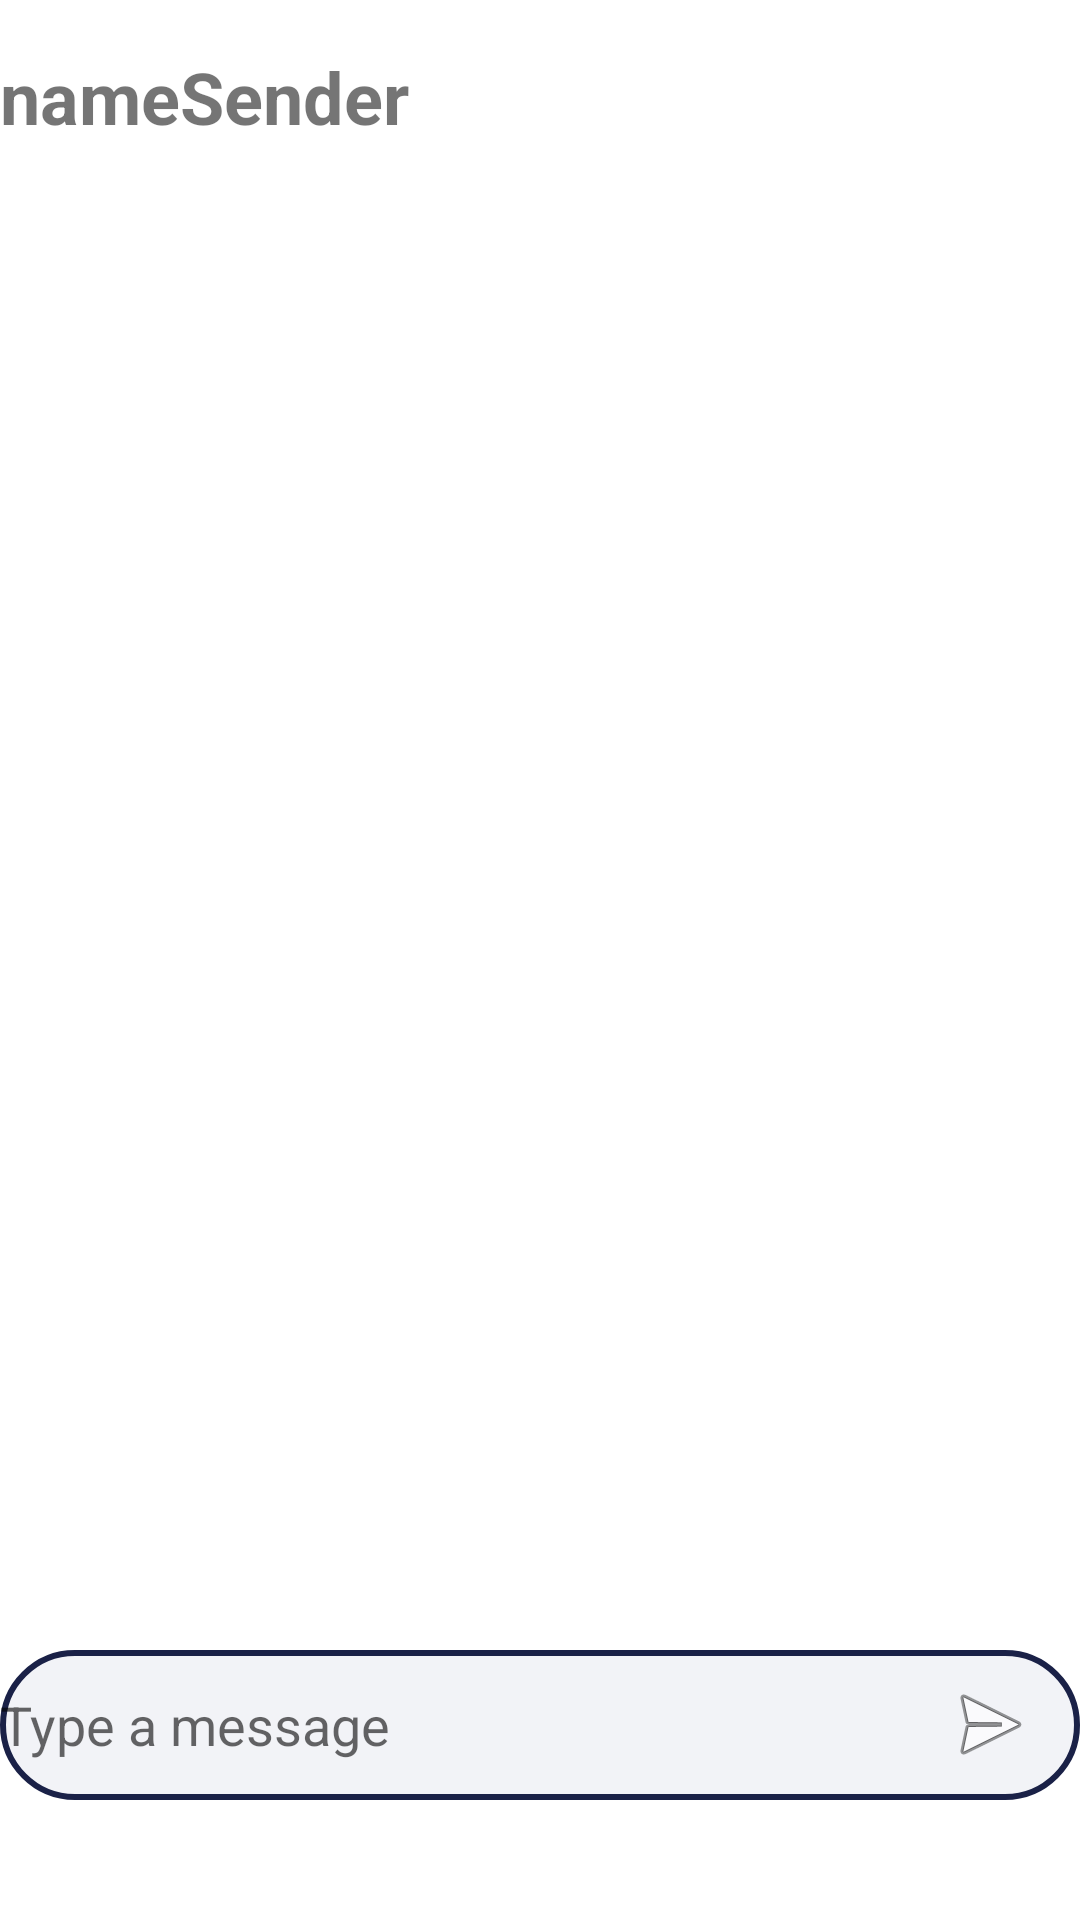

Named icons in this screenshot (1080w x 1920h) and their bounding boxes, (x1, y1, x2, y2):
send: (960, 1694, 1022, 1755)
